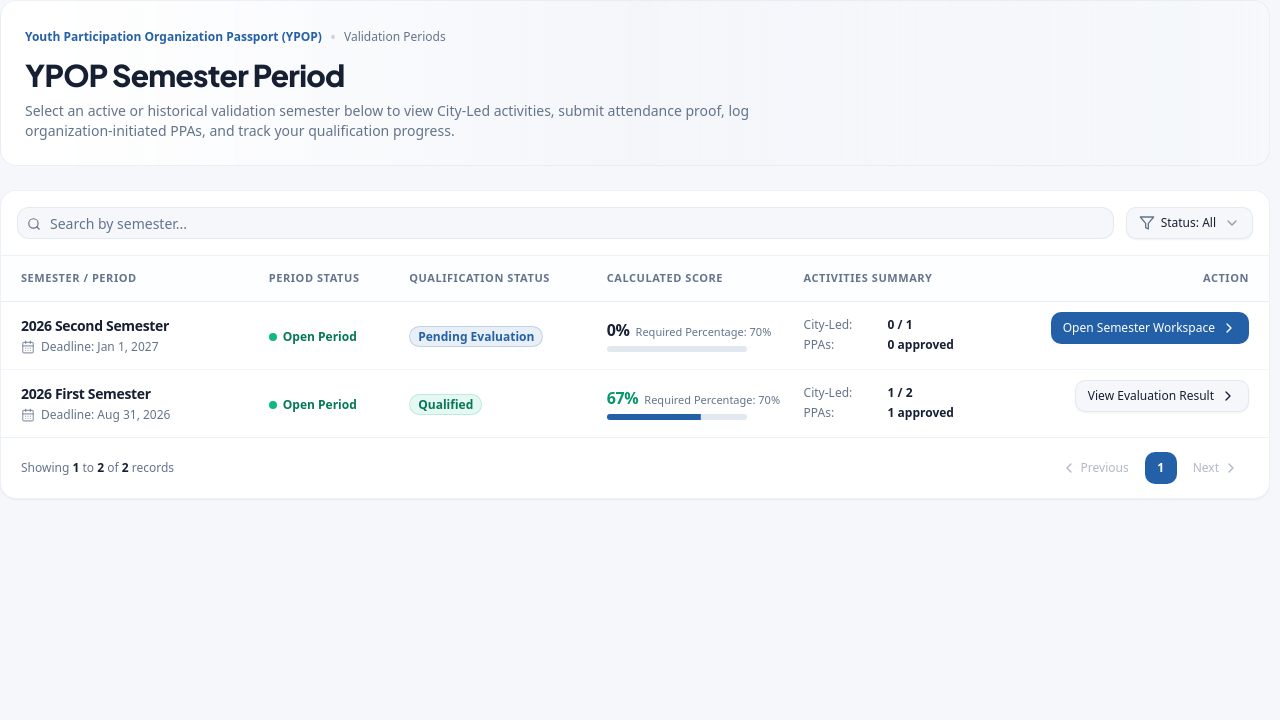
Test: UserPortal YPOP Integration - Admin Configuration & Business Rules › 6 & 8 & 9. Only approved Organization-Led PPAs contribute to bonus; rejected & needs-revision do NOT
This screenshot has width=1280, height=720.
Click the button "View Evaluation Result".
click(1162, 396)  # box [1075,380,1249,412]
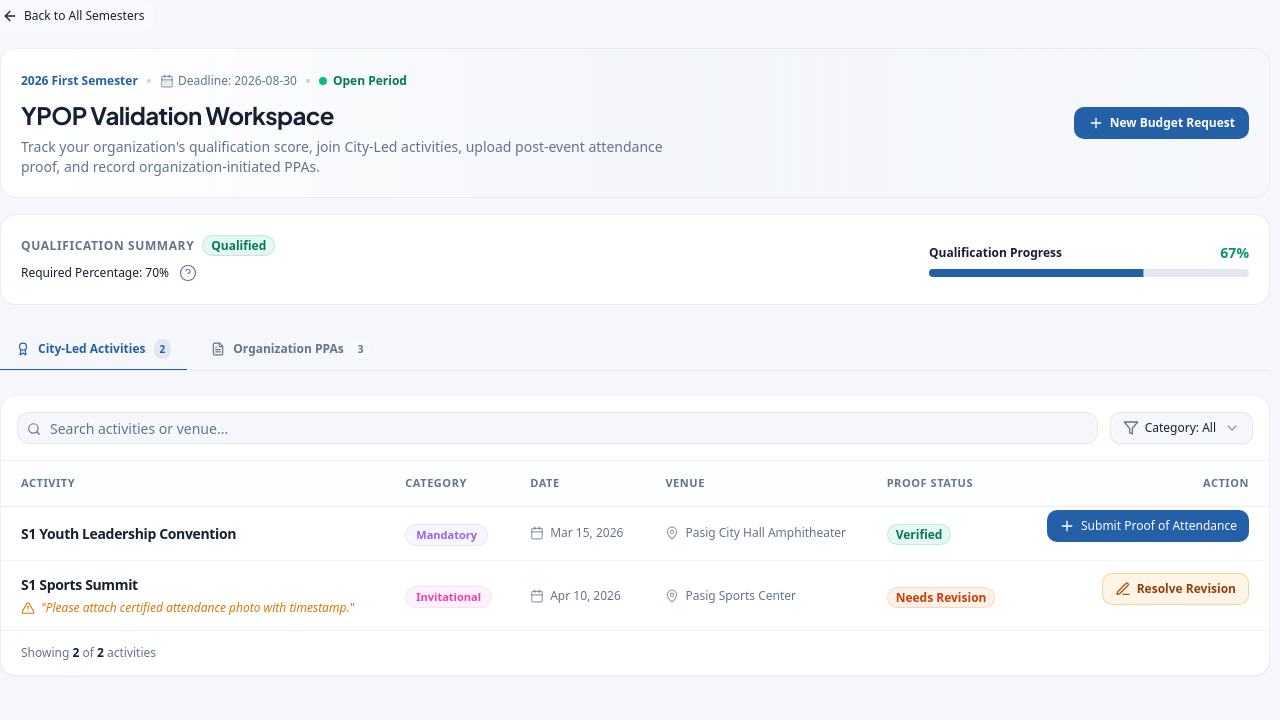
Click the button "Organization PPAs 3".
click(290, 350)  # box [195,329,385,371]
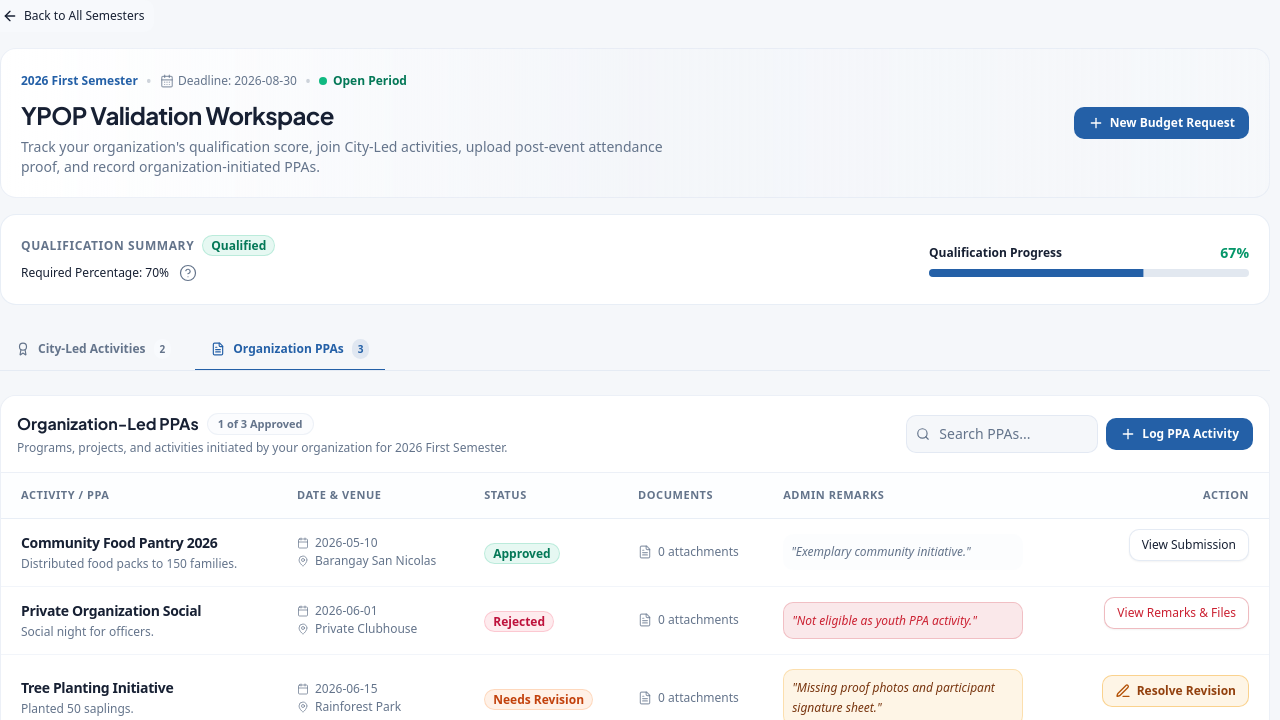
Now the text "Community Food Pantry 2026" is shown, box [21,532,217,552]
Now the text "Approved" is shown, box [484,543,560,564]
Now the text "Private Organization Social" is shown, box [21,601,201,620]
